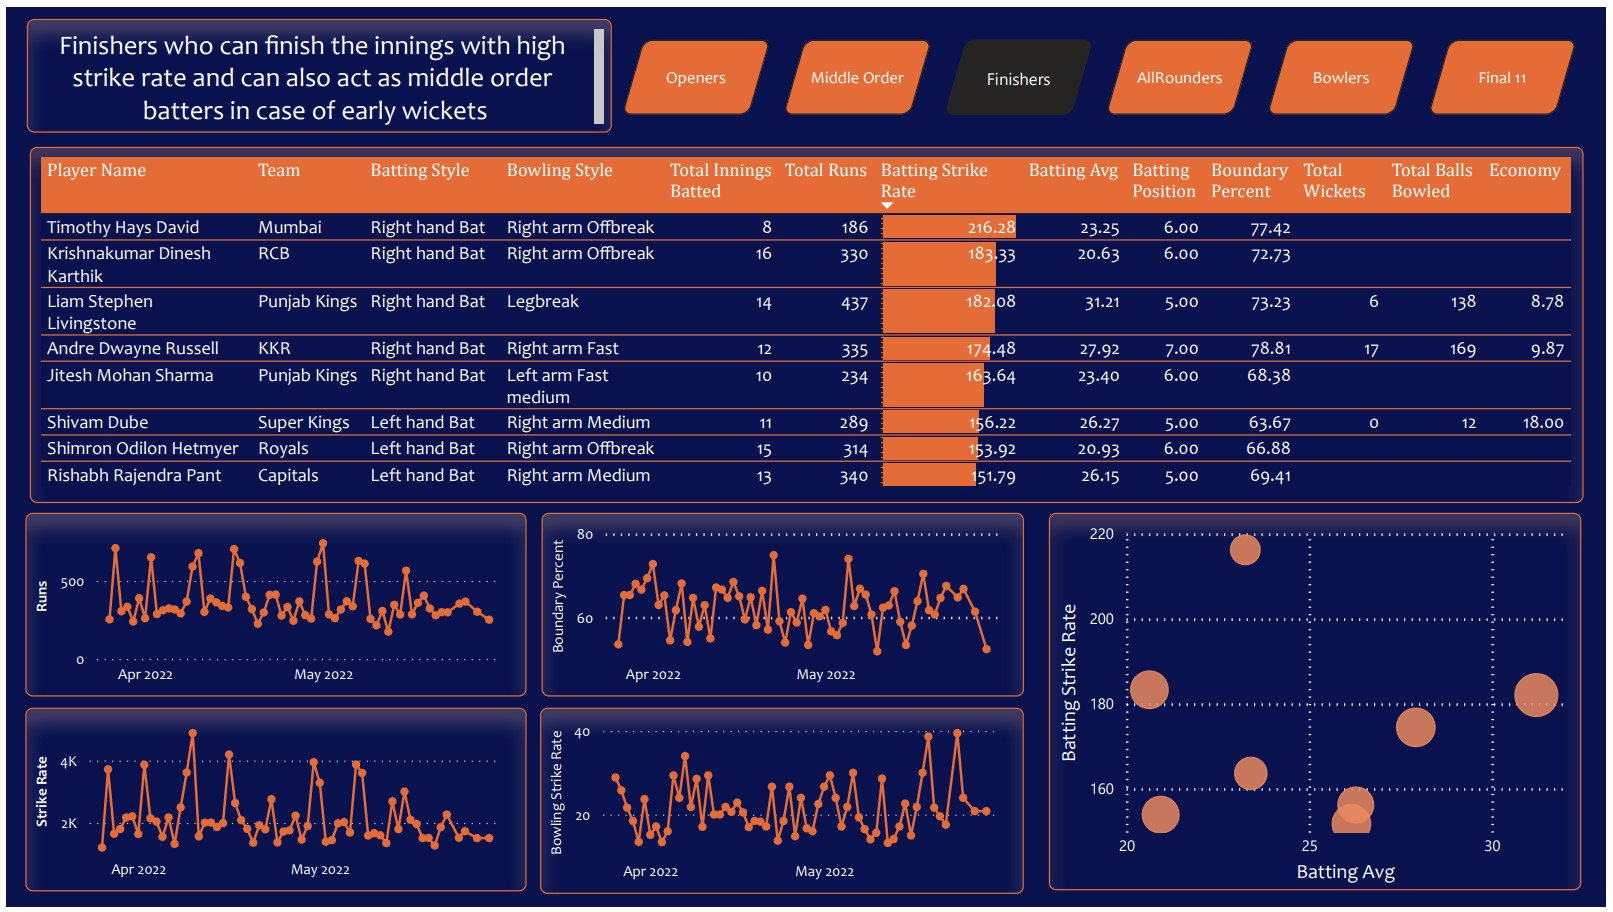

The page's visual inventory and layout, read from the dashboard file:
{"tool":"powerbi","page":{"name":"Finishers","canvas":[1280,720],"ordinal":2},"visuals":[{"type":"tableEx","fields":{"Values":["Players_Data.Player Name","Players_Data.Team","Players_Data.Batting Style","Players_Data.Bowling Style","Batting Measures.Total Innings Batted","Batting Measures.Total Runs","Batting Measures.Batting Strike Rate","Batting Measures.Batting Avg","Batting Measures.Batting Position","Batting Measures.Boundary_Per","Batting Measures.Total Wickets","Batting Measures.Total Balls Bowled"]},"box":[18.5,112.3,1243.1,285.4],"z":0},{"type":"pageNavigator","box":[492.9,25.7,767.1,60],"z":1000},{"type":"lineChart","fields":{"Category":["Match_Results.Match Date"],"Y":["Sum(Batting_Summary.Runs)"]},"box":[15.7,404.3,401.4,147.1],"z":2000},{"type":"lineChart","fields":{"Category":["Match_Results.Match Date"],"Y":["Key_Measures.Boundary Percent"]},"box":[428.6,404.3,385.7,147.1],"z":3000},{"type":"lineChart","fields":{"Category":["Match_Results.Match Date"],"Y":["Key_Measures.Bowling Strike Rate"]},"box":[427.1,560,387.1,148.6],"z":4000},{"type":"lineChart","fields":{"Y":["Sum(Batting_Summary.Strike Rate)"],"Category":["Match_Results.Match Date"]},"box":[15.7,560,401.4,147.1],"z":5000},{"type":"scatterChart","fields":{"Y":["Key_Measures.Batting Strike Rate"],"X":["Key_Measures.Batting Avg"],"Category":["Players_Data.Player Name"],"Size":["Key_Measures.Total Runs"]},"box":[834.2,404.6,426,302.3],"z":6000},{"type":"textbox","box":[16.2,10,467.5,91.2],"z":7000}]}

Visuals, with their boxes in screenshot pixels (x1, y1, x2, y2), scaled from the page's 1280x720 canvas onto the 1613x912 screenshot:
tableEx - Players_Data.Player Name x Players_Data.Team: select_region(23, 142, 1590, 504)
pageNavigator: select_region(621, 33, 1588, 109)
lineChart - Match_Results.Match Date x Sum(Batting_Summary.Runs): select_region(20, 512, 526, 698)
lineChart - Match_Results.Match Date x Key_Measures.Boundary Percent: select_region(540, 512, 1026, 698)
lineChart - Match_Results.Match Date x Key_Measures.Bowling Strike Rate: select_region(538, 709, 1026, 898)
lineChart - Sum(Batting_Summary.Strike Rate) x Match_Results.Match Date: select_region(20, 709, 526, 896)
scatterChart - Key_Measures.Batting Strike Rate x Key_Measures.Batting Avg: select_region(1051, 512, 1588, 895)
textbox: select_region(20, 13, 610, 128)
